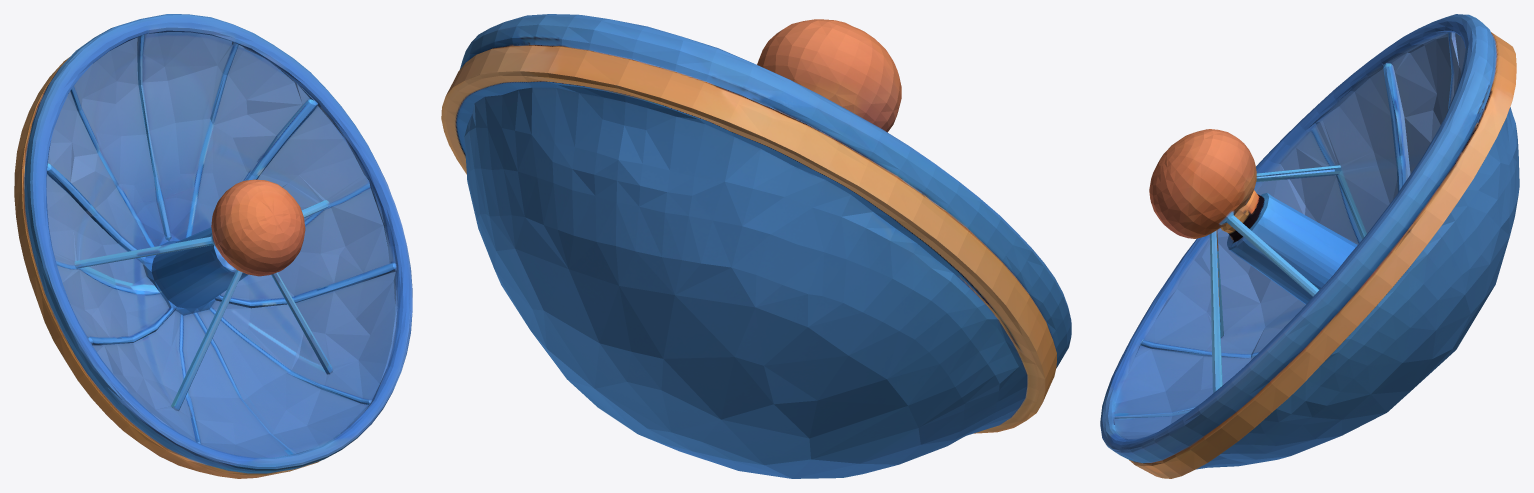
Rendered from Meshy_AI_Blue_Parabolic_Satell_0529140713_texture.glb.
3 views of the same model, side by side, from view 1: azimuth 30°, elevation 25°; view 2: azimuth 150°, elevation 25°; view 3: azimuth 270°, elevation 25° (orthographic). The views are drawn at different scales.
Size of the model in its own units: 1.91 by 1.86 by 1.71.
1 material, 1 textured.
